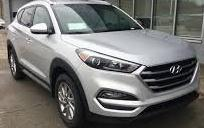SUV: (8, 2, 199, 127)
